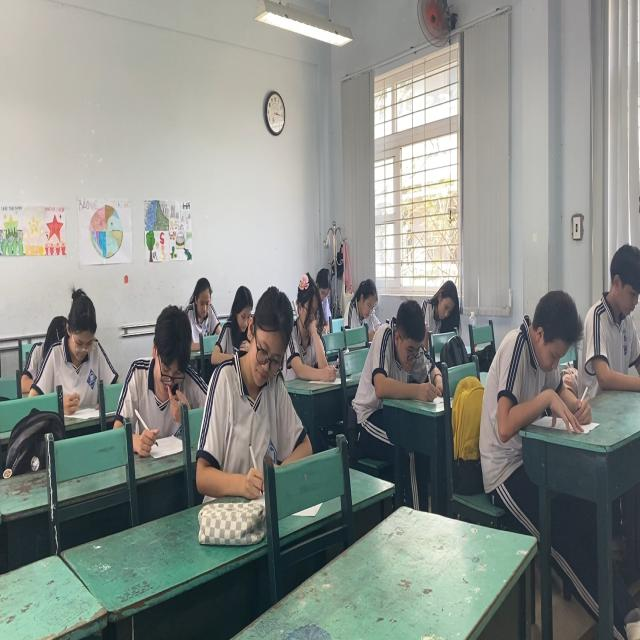not_cheating: (216, 278, 296, 510), (487, 286, 591, 440), (132, 300, 207, 444), (36, 284, 112, 406), (367, 295, 435, 403), (285, 268, 324, 368), (181, 272, 221, 348), (416, 272, 462, 332), (344, 272, 384, 332)
